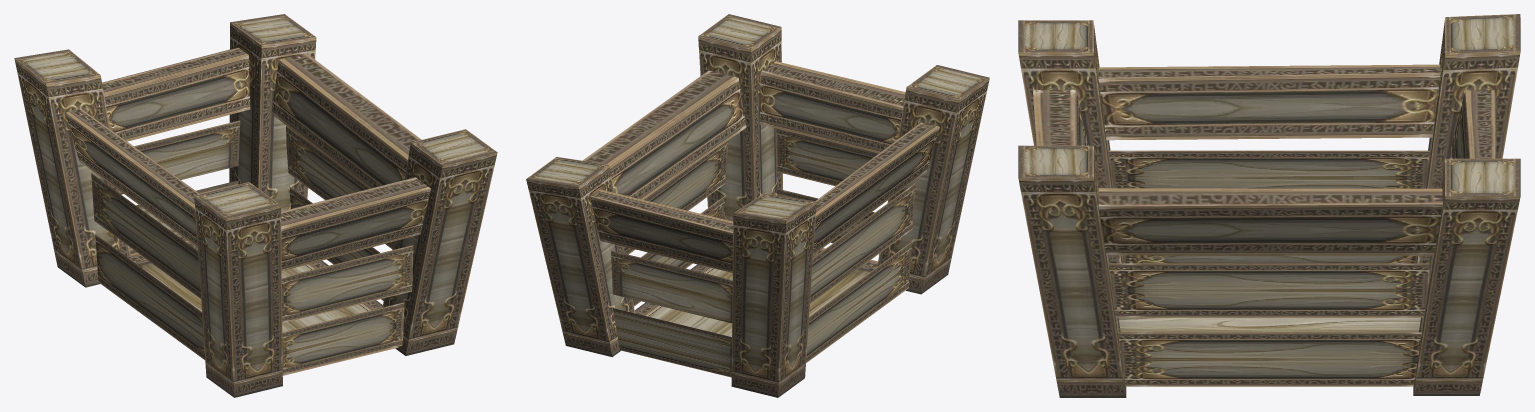
3 views of the same model, side by side, from view 1: azimuth 30°, elevation 25°; view 2: azimuth 150°, elevation 25°; view 3: azimuth 270°, elevation 25° (orthographic). The views are drawn at different scales.
Size of the model in its own units: 1.1 by 0.7878 by 1.48.
1 material, 1 textured.
